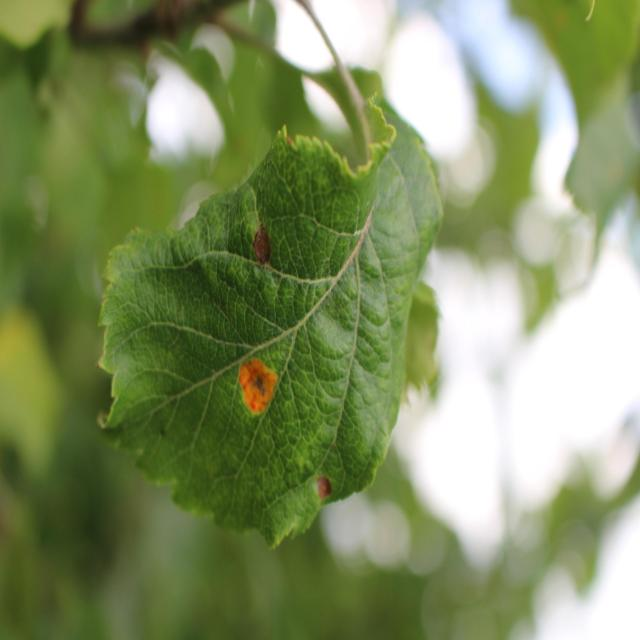rust: (96, 93, 444, 553)
